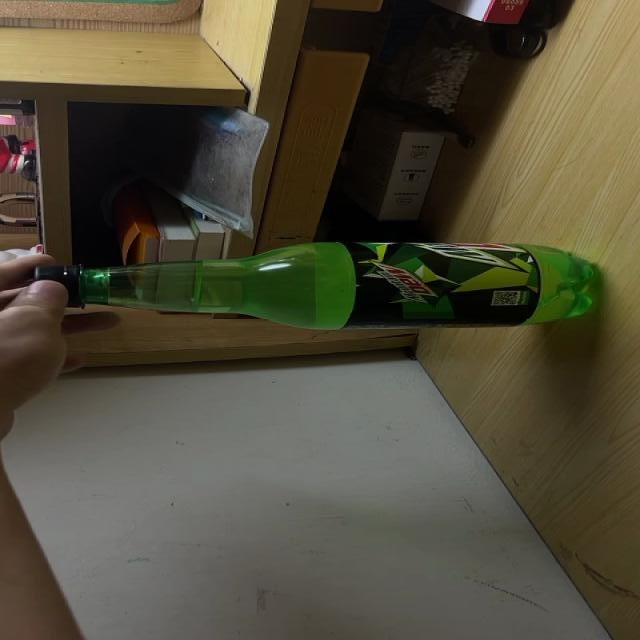Mountain-Dew: (28, 240, 604, 330)
